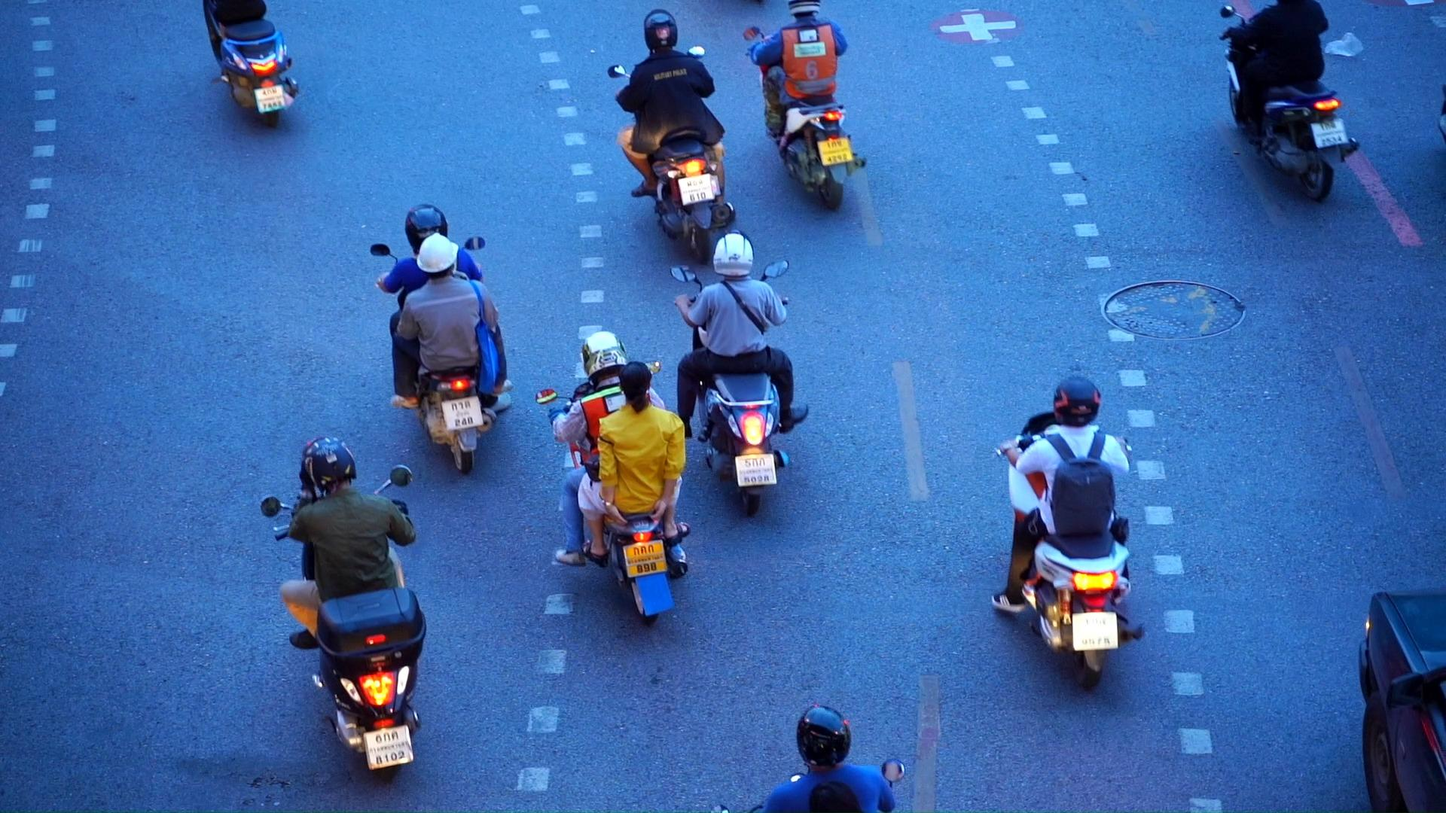driver: (261, 437, 426, 786), (989, 376, 1145, 692), (534, 331, 692, 627), (668, 229, 809, 516), (369, 204, 512, 474), (606, 9, 735, 266), (1219, 0, 1359, 202), (742, 0, 867, 210), (709, 704, 906, 813), (203, 0, 299, 129)
helmet: (797, 704, 851, 768), (304, 436, 357, 493), (1053, 376, 1101, 427), (582, 332, 628, 382), (405, 204, 448, 256), (713, 229, 754, 278), (417, 233, 459, 280), (644, 9, 678, 50), (788, 0, 821, 16)
no-helmet: (618, 361, 652, 414), (810, 781, 864, 813)
